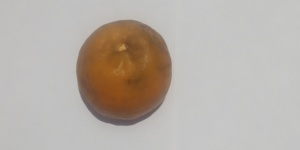BAD: (76, 19, 174, 120)
